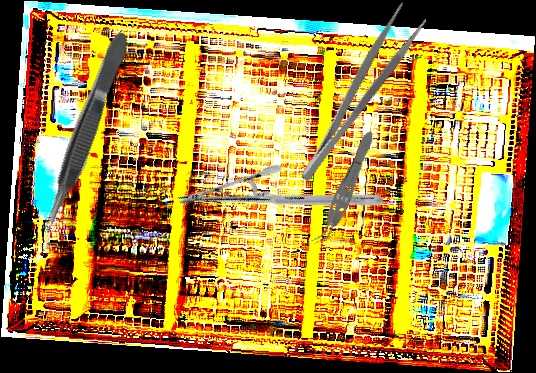Dressing Forceps: (282, 1, 431, 185)
Needle Holder: (175, 108, 386, 291)
Tissue Forceps: (36, 29, 137, 232), (310, 127, 380, 251)
